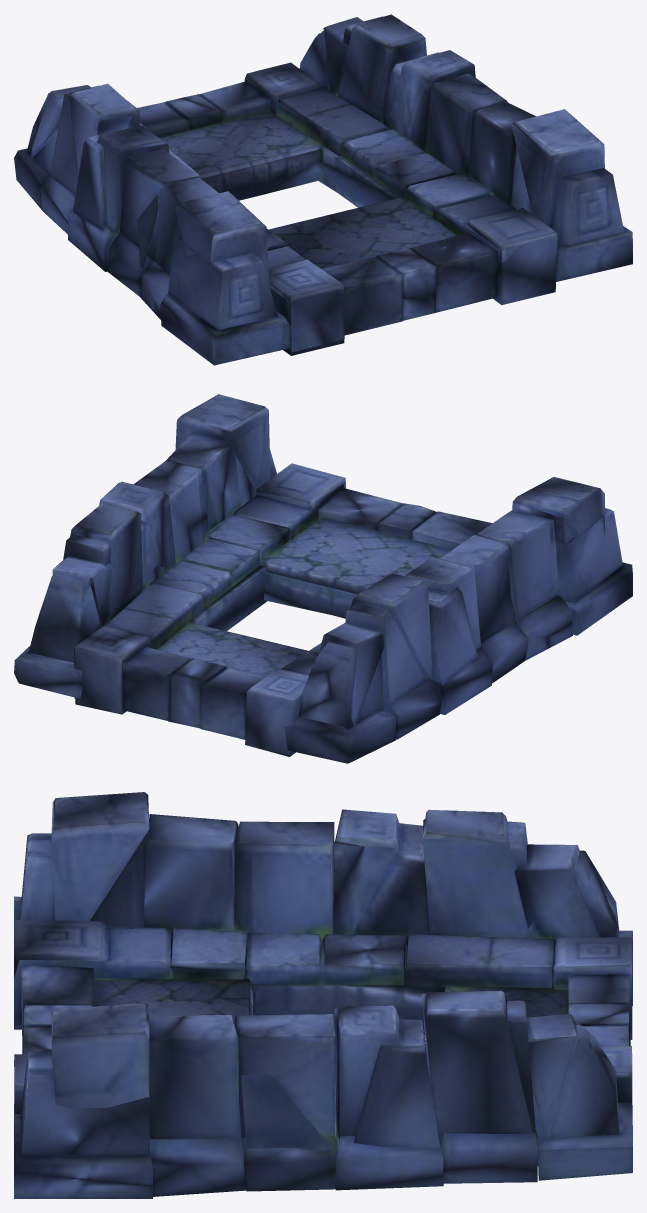
File: ancient-stone-courtyard.glb
3 renders of one model, top to bottom at view 1: azimuth 30°, elevation 25°; view 2: azimuth 150°, elevation 25°; view 3: azimuth 270°, elevation 25°, orthographic. The views are drawn at different scales.
Parts seen in each view (by area): view 1: AncientStoneCourtyard_Meshy; view 2: AncientStoneCourtyard_Meshy; view 3: AncientStoneCourtyard_Meshy.
Boxes of the visible parts, box(x1,y1,x2,y2) form: AncientStoneCourtyard_Meshy: box(14, 14, 632, 365); AncientStoneCourtyard_Meshy: box(14, 394, 632, 763); AncientStoneCourtyard_Meshy: box(14, 792, 632, 1198).
Bounding box in the file's own units: 1 × 0.3037 × 1.
Materials: 1 (1 with a texture image).
